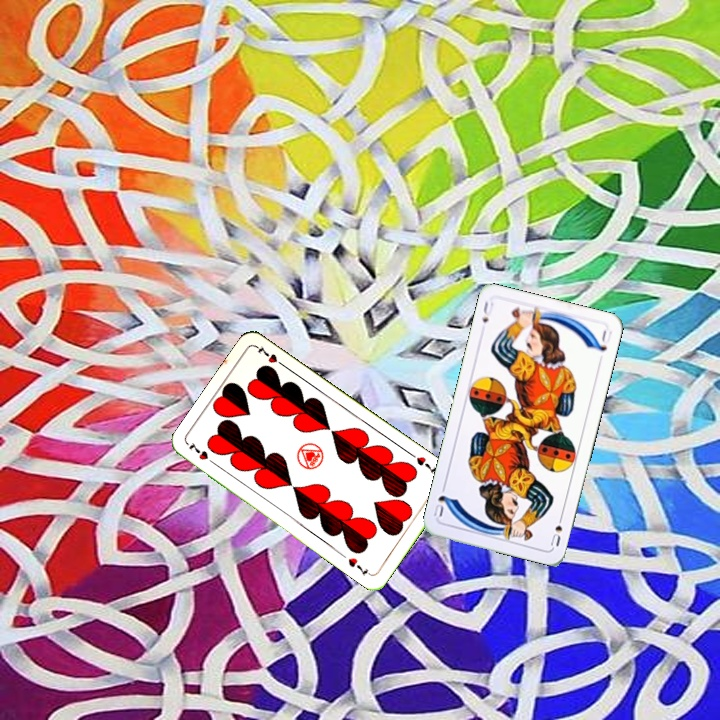H7: (185, 439, 219, 468), (412, 452, 439, 477)
SU: (546, 510, 565, 550), (478, 297, 496, 325)
